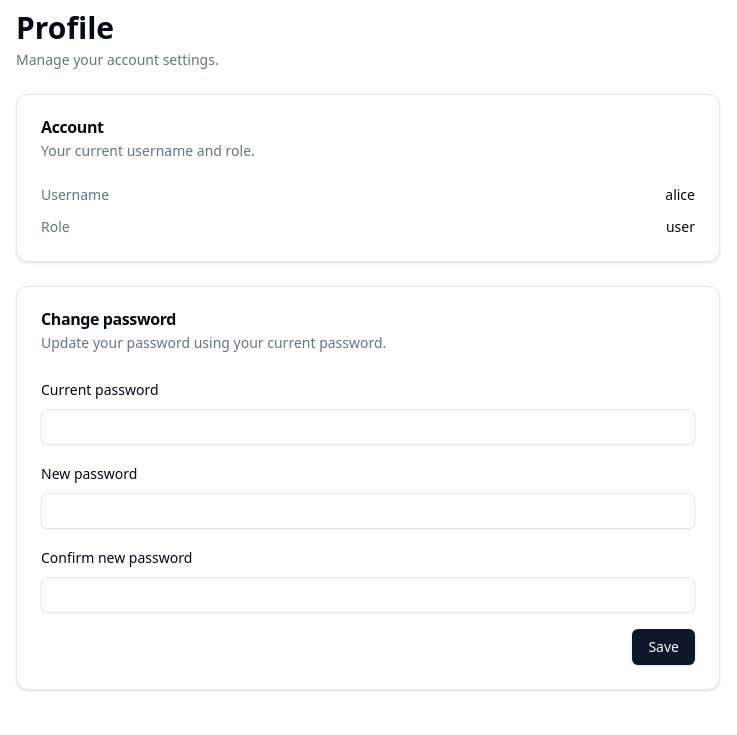
Test case: ProfilePage › shows inline error for wrong current password
Type "wrong" into the password field labelled "Current password". click: (368, 427)
box: [41, 409, 695, 445]
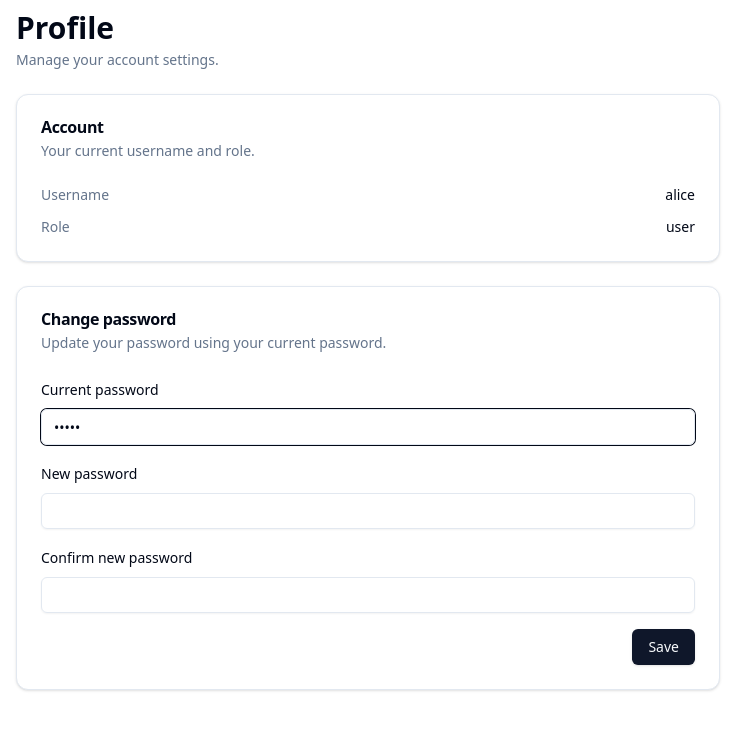
Type "StrongPass1!" into the password field labelled "New password". click: (368, 511)
box: [41, 493, 695, 529]
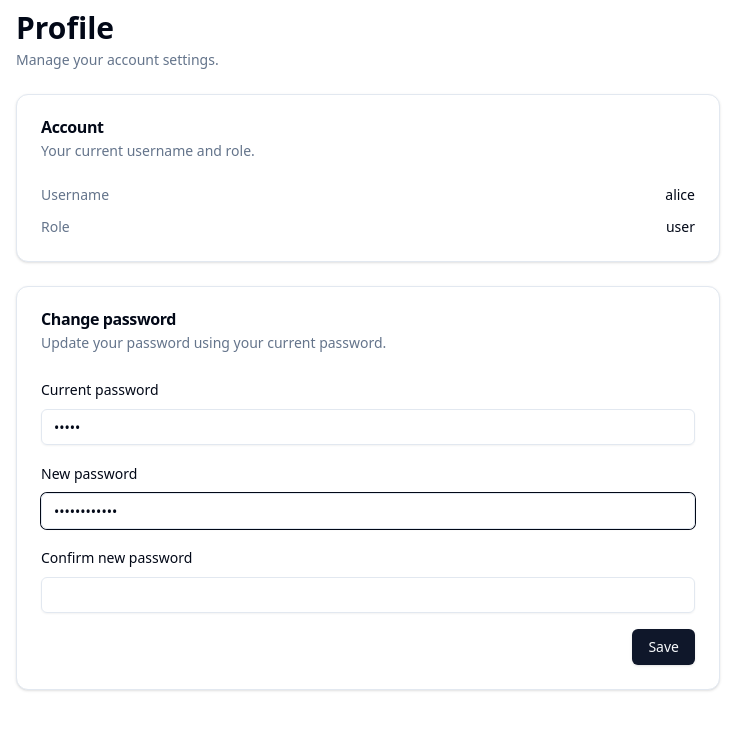
Type "StrongPass1!" into the password field labelled "Confirm new password". click: (368, 595)
box: [41, 577, 695, 613]
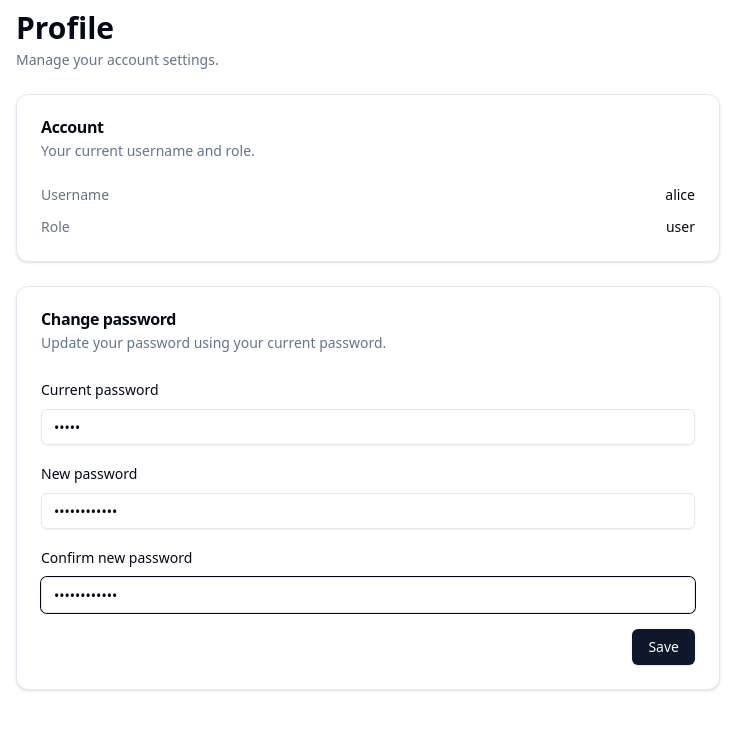
Click the button "Save". click: (664, 647)
box: [632, 629, 695, 665]
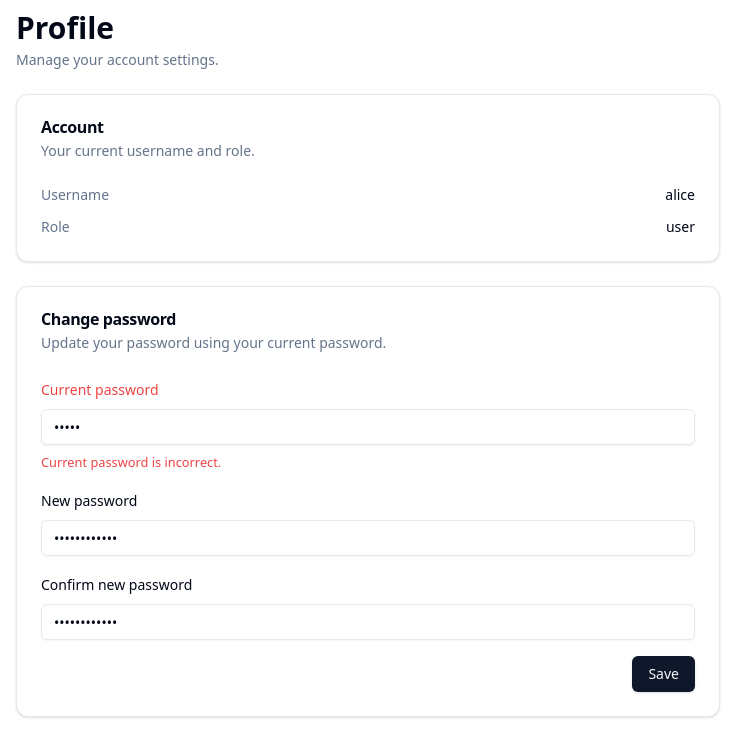
Check: the text "Current password is incorrect." is shown, box [41, 453, 221, 471]
